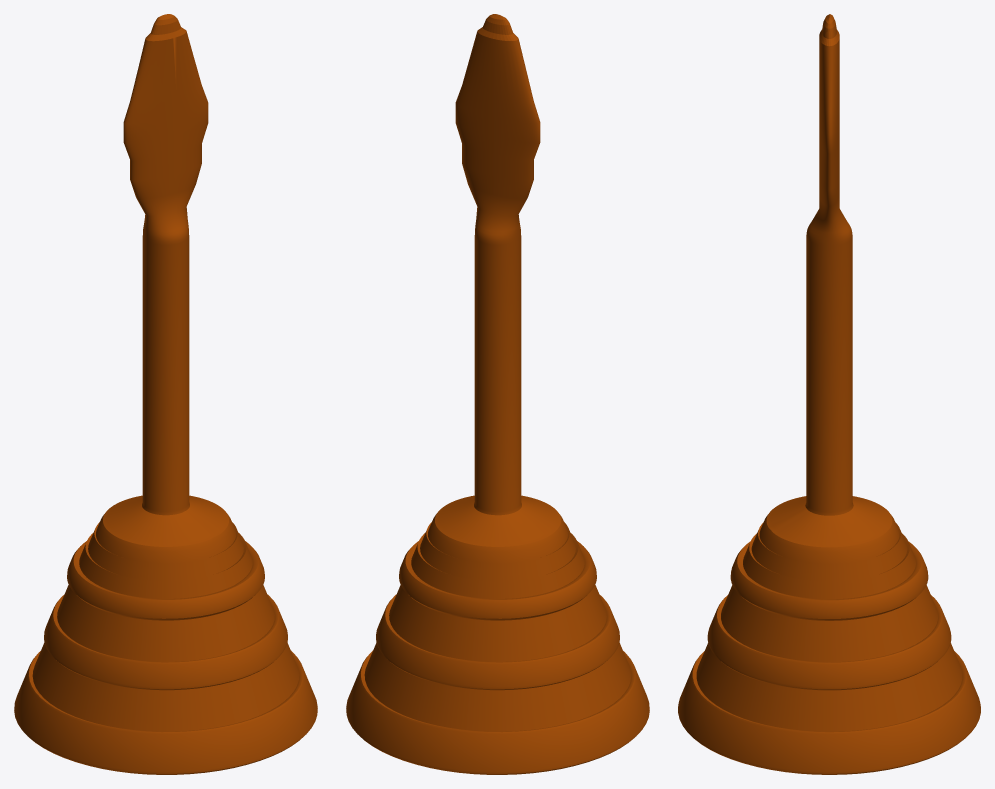
The model's file is Hand Bell.fbx.
3 renders of one model, left to right at view 1: azimuth 30°, elevation 25°; view 2: azimuth 150°, elevation 25°; view 3: azimuth 270°, elevation 25°, orthographic.
Visible parts, largest first — view 1: Cylinder001; view 2: Cylinder001; view 3: Cylinder001.
Boxes of the visible parts, box(x1,y1,x2,y2) form: Cylinder001: box(14, 14, 317, 774); Cylinder001: box(346, 14, 649, 774); Cylinder001: box(678, 14, 980, 774).
Bounding box in the file's own units: 5.64 × 14.34 × 5.64.
